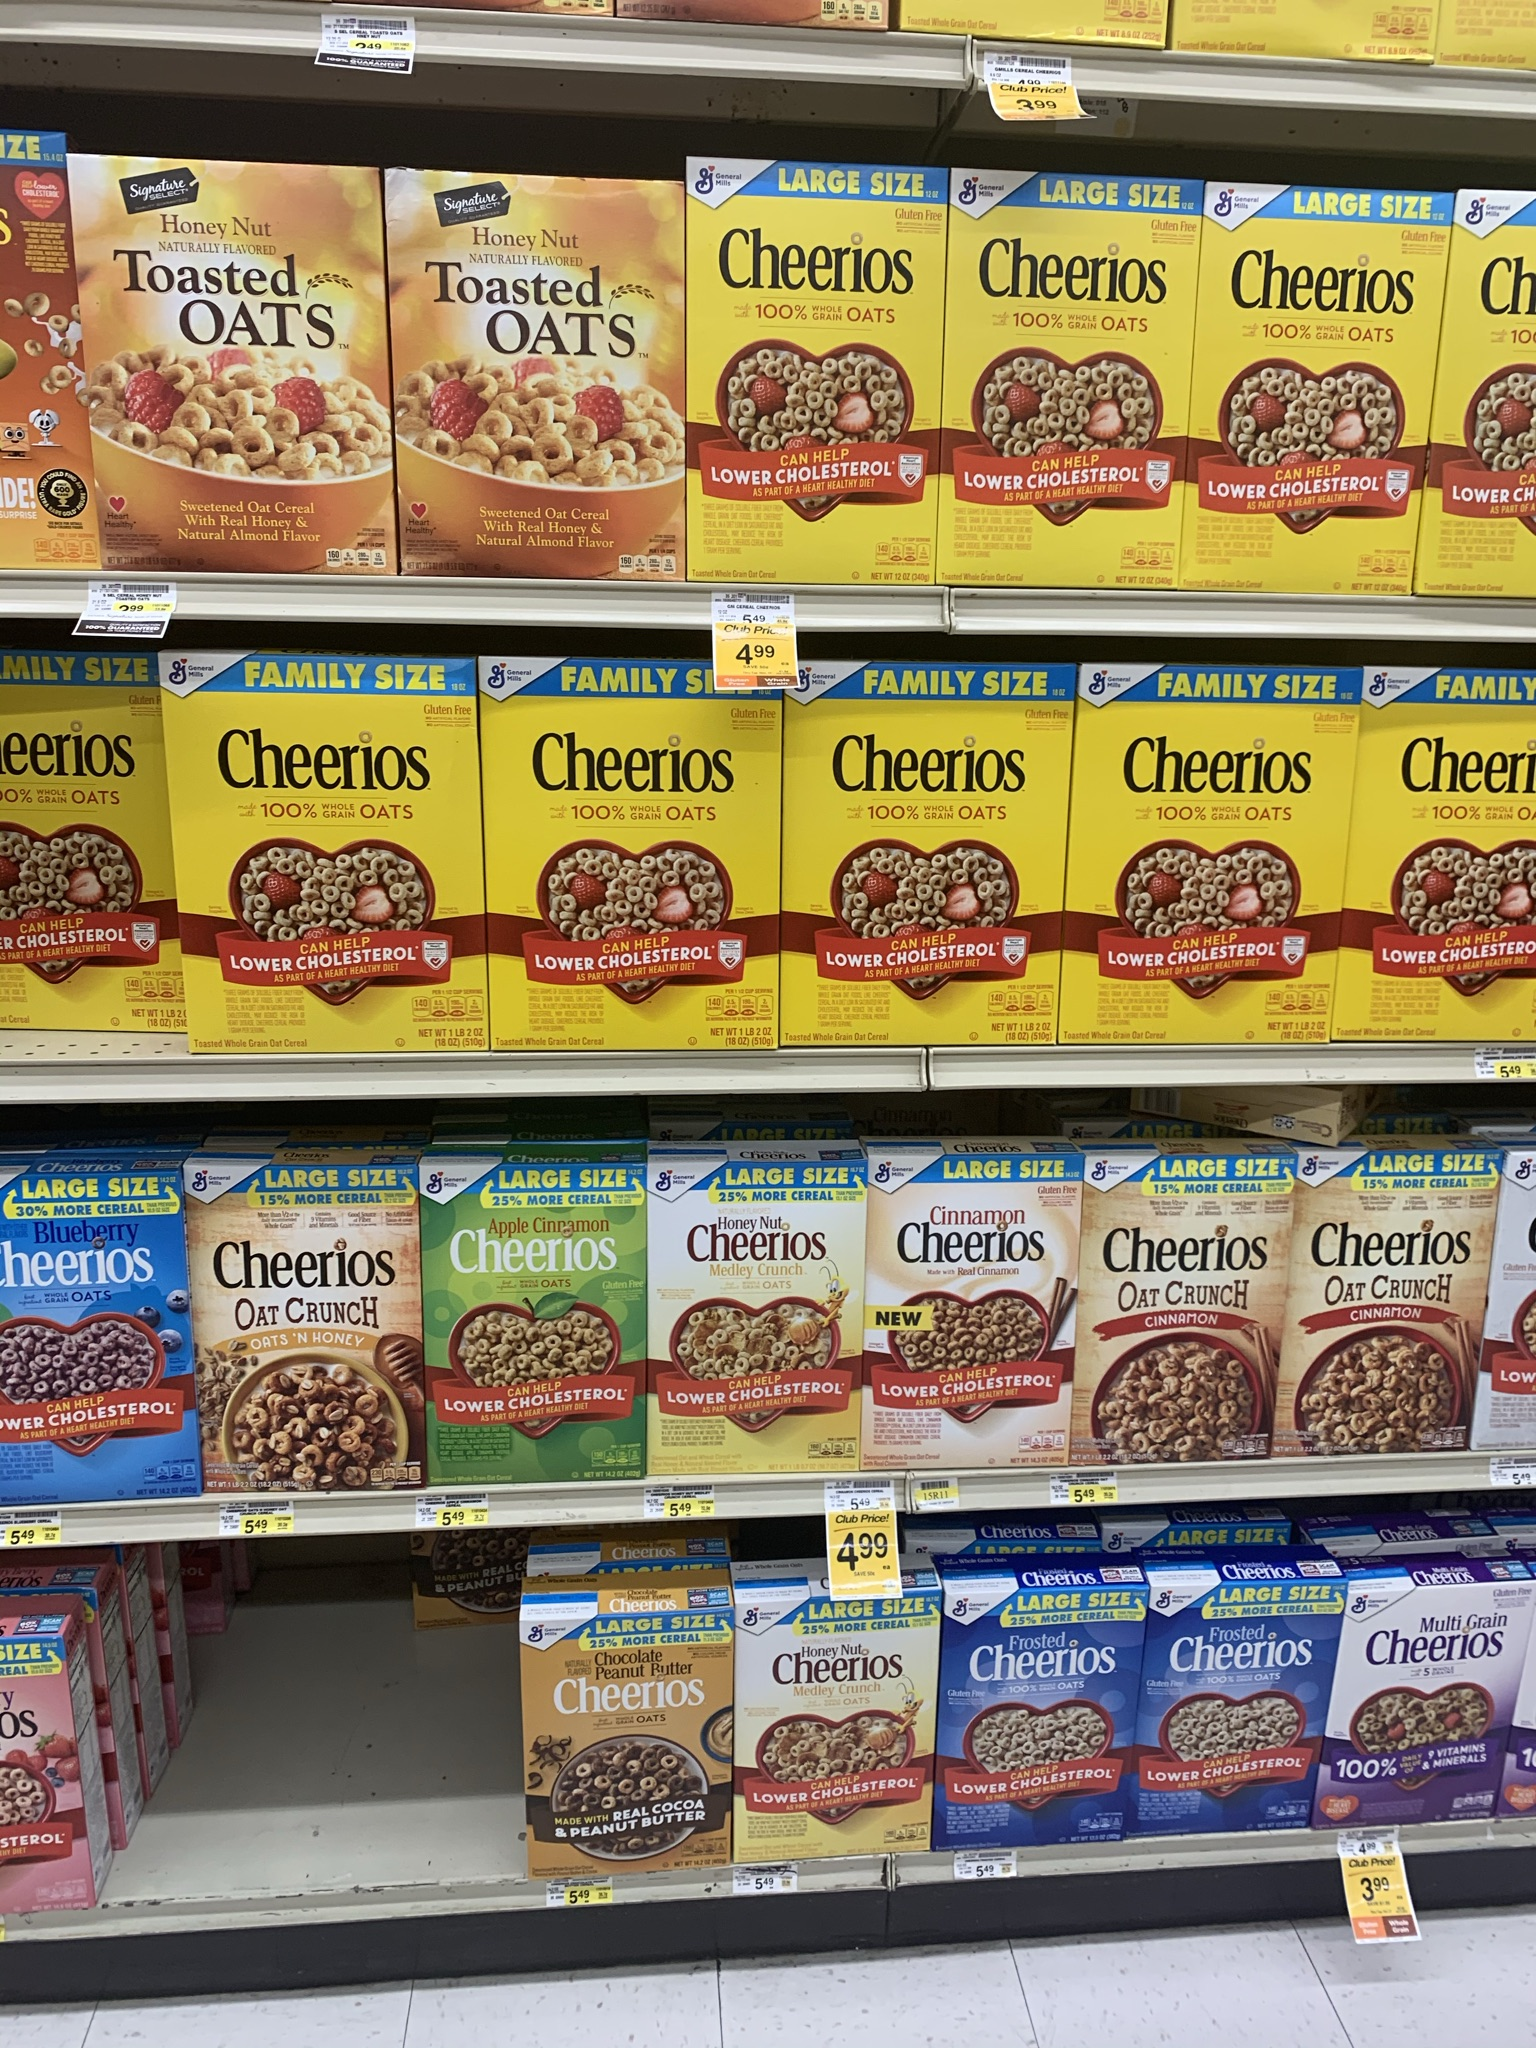cereal: (68, 155, 387, 572), (160, 653, 484, 1061), (384, 177, 679, 587), (487, 661, 778, 1051), (691, 161, 936, 597), (795, 668, 1062, 1053), (936, 164, 1176, 584), (1087, 672, 1338, 1047), (1199, 181, 1410, 605), (416, 1171, 644, 1492), (189, 1164, 405, 1480), (652, 1159, 858, 1480), (1362, 674, 1536, 1035), (865, 1159, 1062, 1476), (511, 1617, 736, 1884), (1297, 1142, 1484, 1455), (2, 666, 160, 1034), (2, 1177, 181, 1484), (1084, 1171, 1265, 1472), (937, 1588, 1121, 1858), (742, 1613, 925, 1874), (1149, 1588, 1321, 1834), (1438, 174, 1536, 601), (1347, 1580, 1501, 1837)
